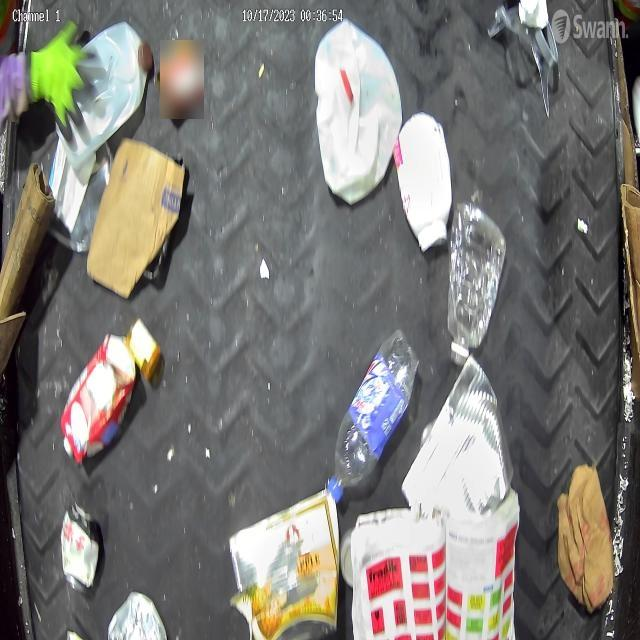milk_jug: (314, 18, 404, 206), (55, 22, 154, 166)
non_white_jug: (60, 334, 137, 465)
plastic_bottle: (330, 329, 420, 498), (449, 204, 506, 360)
